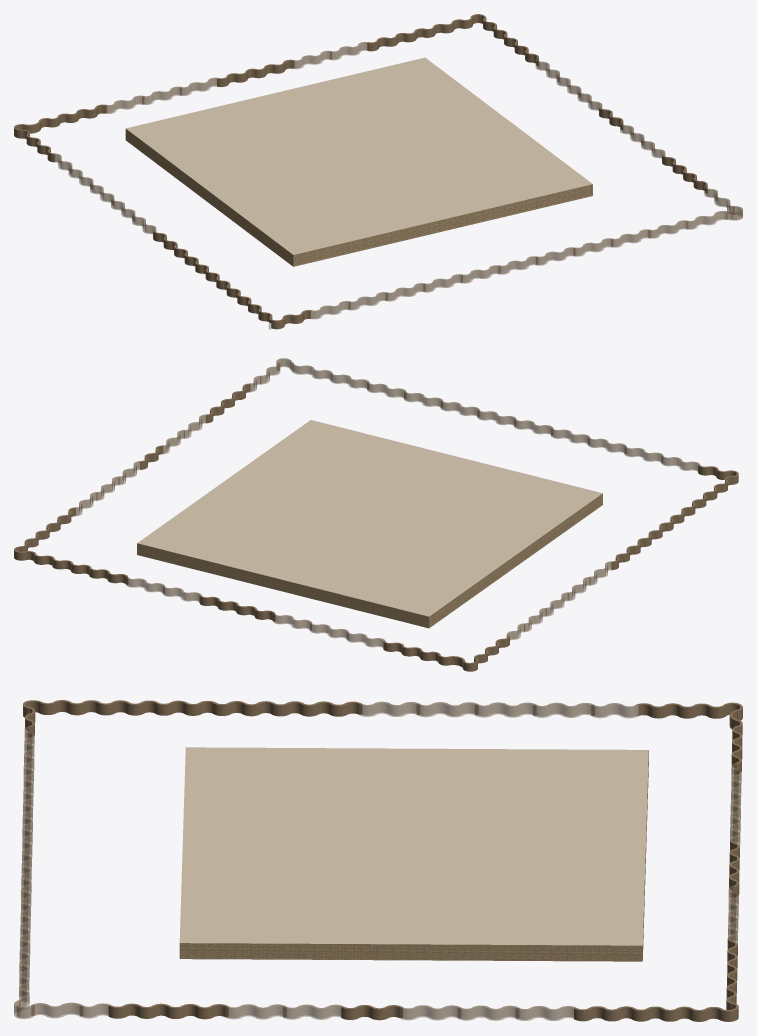
File: Unfinished_SSaqqara.glb
3 renders of one model, top to bottom at view 1: azimuth 30°, elevation 25°; view 2: azimuth 150°, elevation 25°; view 3: azimuth 270°, elevation 25°, orthographic. The views are drawn at different scales.
Parts seen in each view (by area): view 1: Mesh41 Model, Mesh46 Model, Mesh42 Model, Mesh43 Model; view 2: Mesh41 Model, Mesh46 Model, Mesh43 Model, Mesh44 Model; view 3: Mesh41 Model, Mesh46 Model, Mesh44 Model, Mesh42 Model, Mesh35 Sinusoidal_Wall35 Model, Mesh43 Model, Mesh9 Sinusoidal_Wall9 Model, Mesh4 Sinusoidal_Wall4 Model, Mesh7 Sinusoidal_Wall7 Model, Mesh34 Sinusoidal_Wall34 Model, Mesh24 Sinusoidal_Wall24 Model, Mesh8 Sinusoidal_Wall8 Model (+13 smaller).
Boxes of the visible parts, x1=… form: Mesh41 Model: x1=125, y1=57, x2=592, y2=266; Mesh46 Model: x1=686, y1=185, x2=742, y2=229; Mesh42 Model: x1=442, y1=14, x2=496, y2=33; Mesh43 Model: x1=258, y1=308, x2=312, y2=329; Mesh41 Model: x1=137, y1=420, x2=602, y2=628; Mesh46 Model: x1=249, y1=358, x2=332, y2=392; Mesh43 Model: x1=698, y1=464, x2=738, y2=492; Mesh44 Model: x1=462, y1=635, x2=509, y2=671; Mesh41 Model: x1=179, y1=747, x2=648, y2=961; Mesh46 Model: x1=14, y1=971, x2=111, y2=1019; Mesh44 Model: x1=634, y1=702, x2=742, y2=720; Mesh42 Model: x1=690, y1=984, x2=738, y2=1021; Mesh35 Sinusoidal_Wall35 Model: x1=300, y1=701, x2=362, y2=716; Mesh43 Model: x1=23, y1=700, x2=70, y2=737; Mesh9 Sinusoidal_Wall9 Model: x1=166, y1=1004, x2=228, y2=1019; Mesh4 Sinusoidal_Wall4 Model: x1=457, y1=1005, x2=518, y2=1020; Mesh7 Sinusoidal_Wall7 Model: x1=399, y1=1005, x2=460, y2=1020; Mesh34 Sinusoidal_Wall34 Model: x1=416, y1=702, x2=478, y2=717; Mesh24 Sinusoidal_Wall24 Model: x1=475, y1=702, x2=536, y2=717; Mesh8 Sinusoidal_Wall8 Model: x1=225, y1=1004, x2=286, y2=1019.
Size of the model in its own units: 126 by 3.01 by 124.
18 materials, 16 textured.
